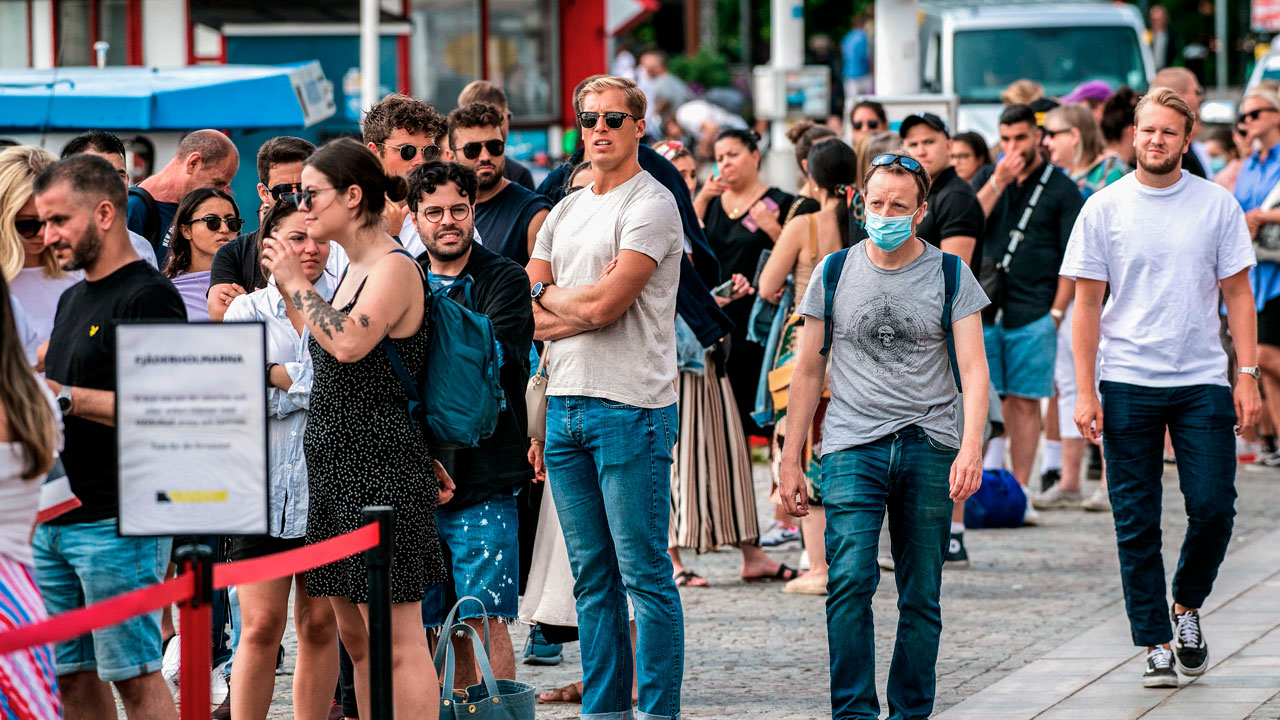with_mask: (864, 189, 908, 254)
without_mask: (451, 132, 515, 199), (579, 88, 622, 176), (48, 194, 95, 268), (421, 191, 468, 255), (1140, 108, 1181, 169), (286, 216, 323, 282), (16, 188, 49, 261), (196, 192, 235, 251), (302, 171, 341, 229), (1042, 119, 1080, 166), (393, 127, 422, 178), (715, 141, 747, 187), (998, 127, 1034, 164), (909, 130, 938, 164), (1243, 104, 1269, 138)
